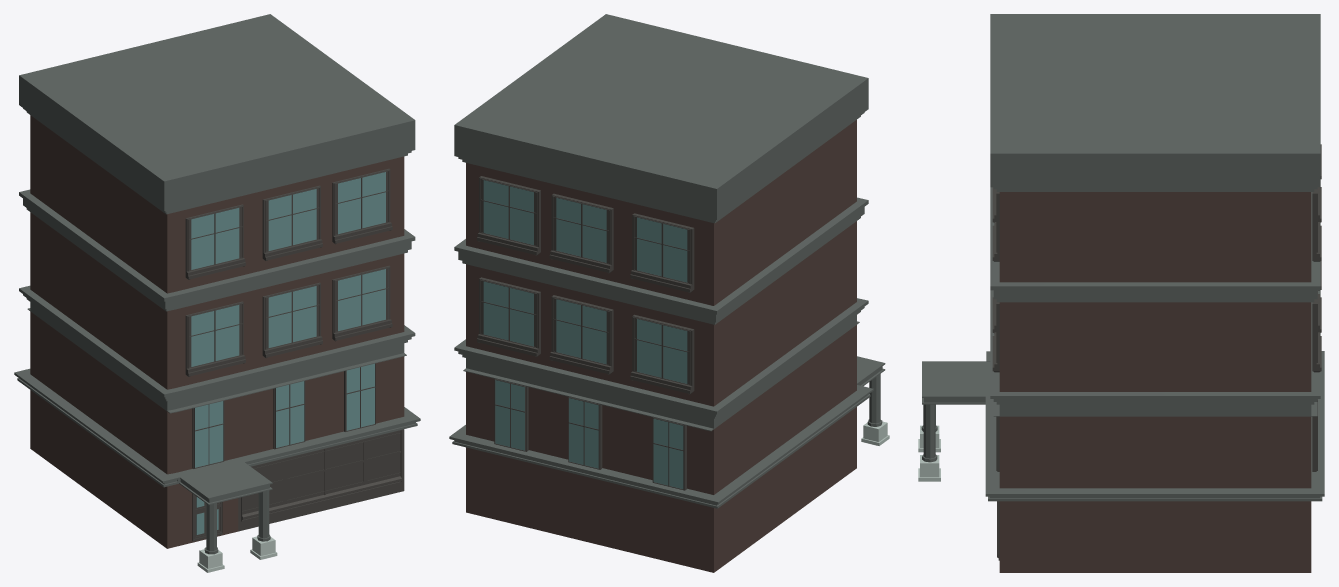
File: HOTEL.fbx
3 views of the same model, side by side, from view 1: azimuth 30°, elevation 25°; view 2: azimuth 150°, elevation 25°; view 3: azimuth 270°, elevation 25° (orthographic). The views are drawn at different scales.
Visible parts, largest first — view 1: hotel_02; view 2: hotel_02; view 3: hotel_02.
Boxes of the visible parts, <box> form: hotel_02: <box>14,14,420,572</box>; hotel_02: <box>449,14,889,572</box>; hotel_02: <box>918,14,1324,572</box>.
Bounding box in the file's own units: 217 × 300 × 261.
